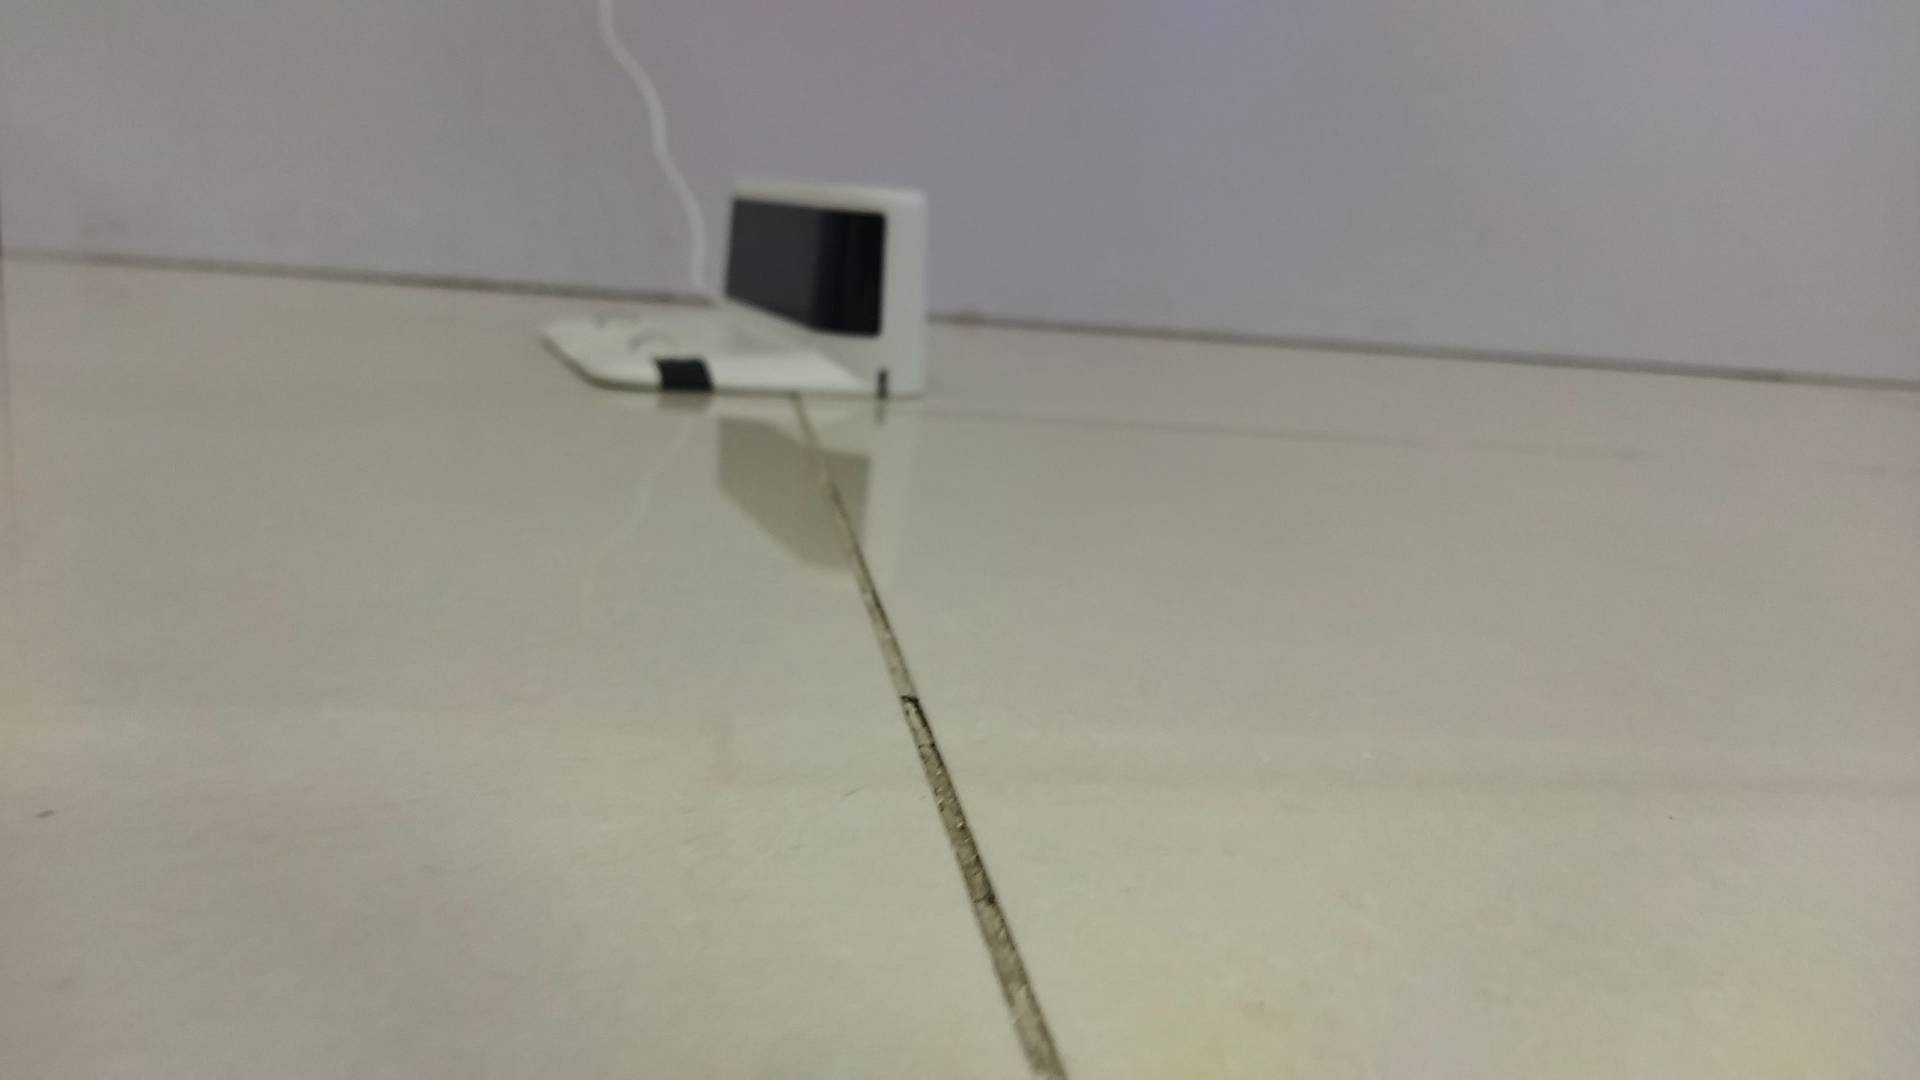recharge seat: (541, 173, 928, 400)
